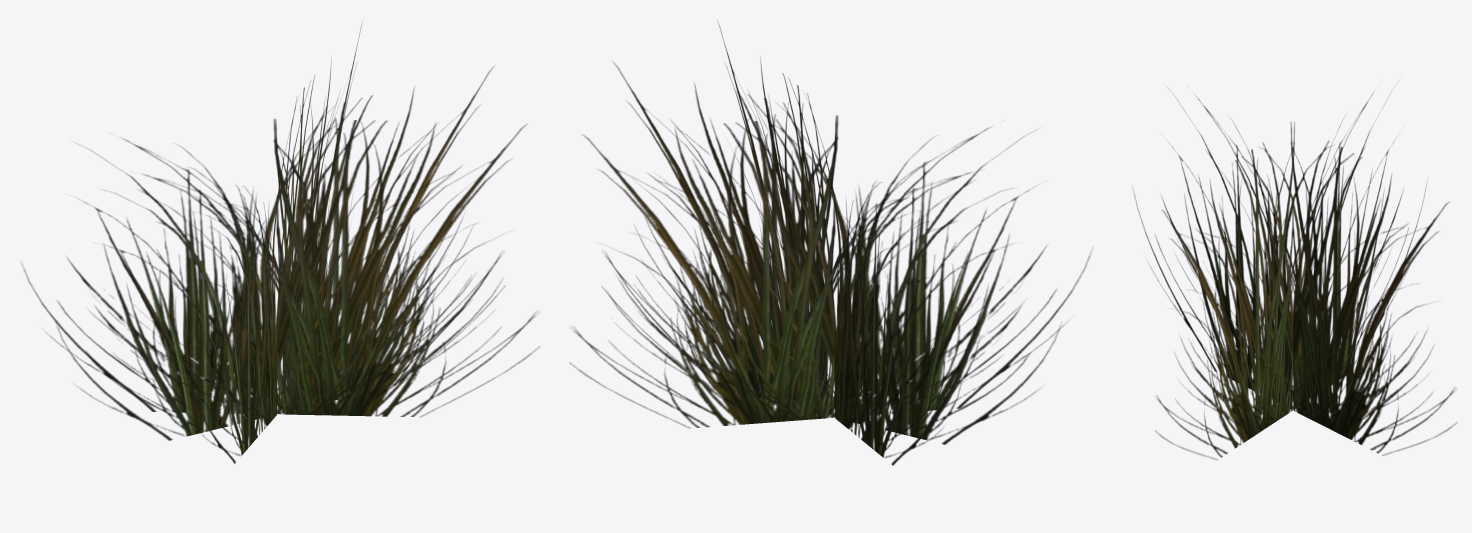
File: plant3.glb
The picture shows the model from 3 angles, left to right: view 1: azimuth 30°, elevation 25°; view 2: azimuth 150°, elevation 25°; view 3: azimuth 270°, elevation 25°; orthographic projection. The views are drawn at different scales.
Parts seen in each view (by area): view 1: Plane.002; view 2: Plane.002; view 3: Plane.002.
Part boxes in pixels (left/top/right/bottom): Plane.002: left=22, top=25, right=539, bottom=463; Plane.002: left=569, top=20, right=1091, bottom=465; Plane.002: left=1133, top=92, right=1456, bottom=459.
Bounding box in the file's own units: 1.35 × 0.8352 × 0.8656.
1 material, 1 textured.
